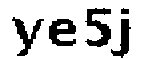5: (81, 6, 113, 47)
e: (50, 17, 78, 51)
j: (112, 6, 135, 59)
y: (9, 15, 45, 59)
